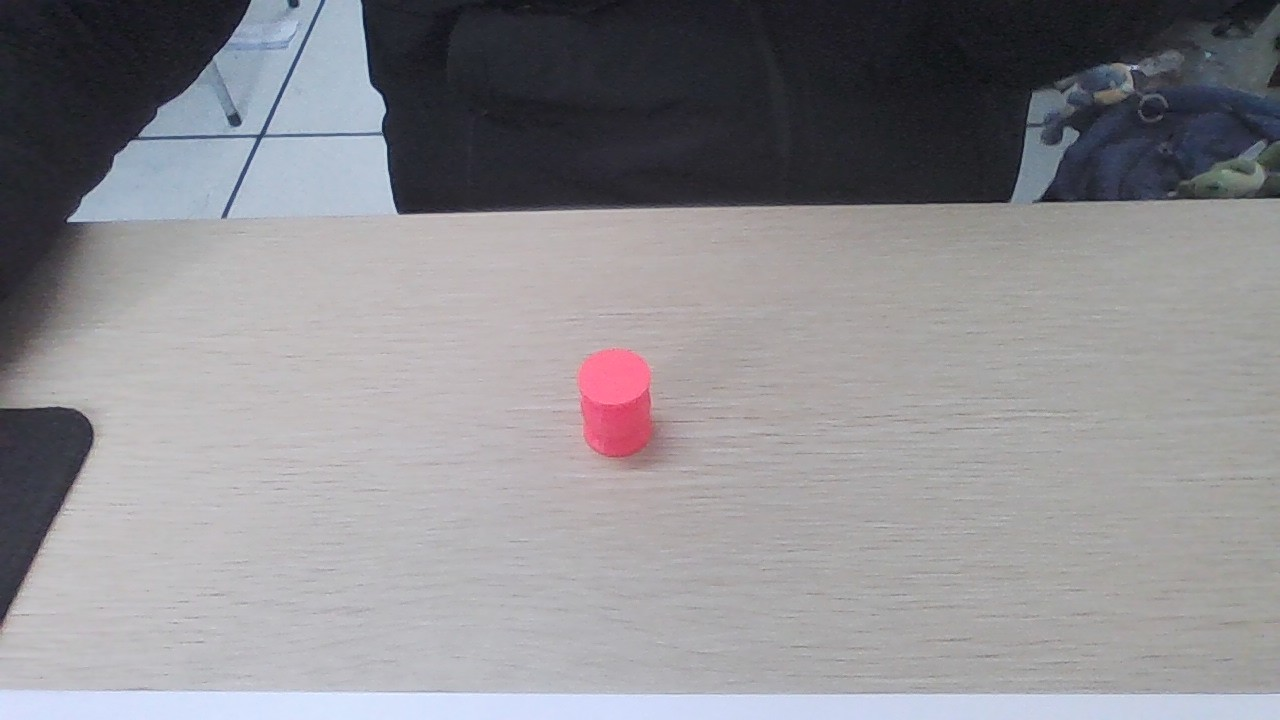KHS-plastic: (577, 348, 654, 456)
